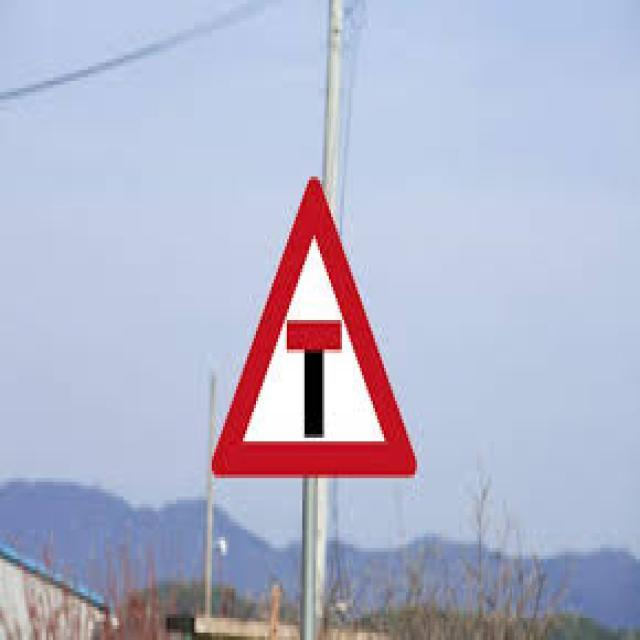t intersection: (209, 170, 423, 481)
